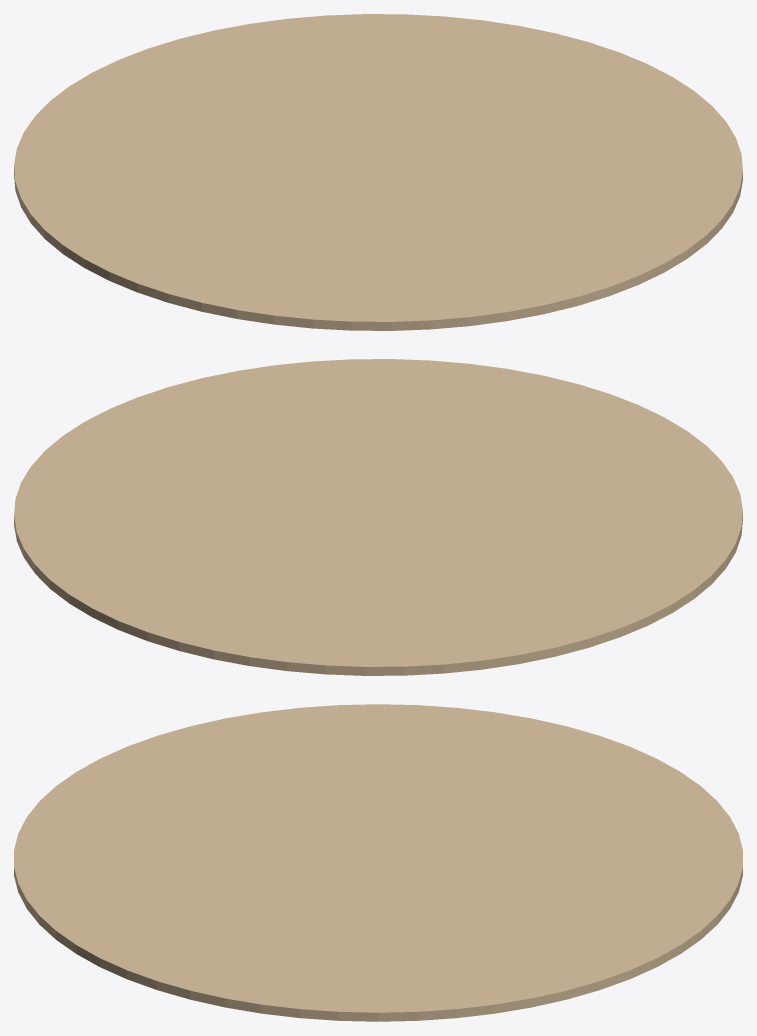
Rendered from oil-pressure-diaphragm.glb.
The picture shows the model from 3 angles, top to bottom: view 1: azimuth 30°, elevation 25°; view 2: azimuth 150°, elevation 25°; view 3: azimuth 270°, elevation 25°; orthographic projection.
Visible parts, largest first — view 1: world; view 2: world; view 3: world.
Boxes of the visible parts, x1,y1,x2,y2 form: world: [14, 14, 742, 330]; world: [14, 359, 742, 675]; world: [14, 704, 742, 1021].
Size of the model in its own units: 0.022 by 0.0003 by 0.022.
